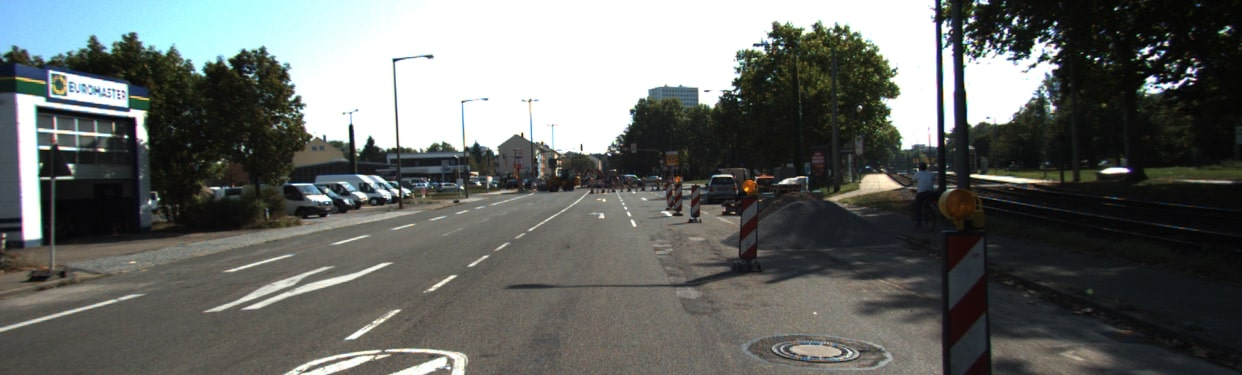Cyclist: (906, 153, 942, 248)
car: (329, 168, 395, 204), (283, 179, 337, 222), (704, 172, 743, 205)
